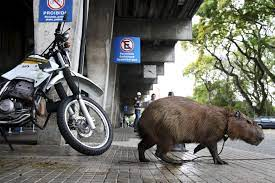capivara: (134, 96, 264, 165)
